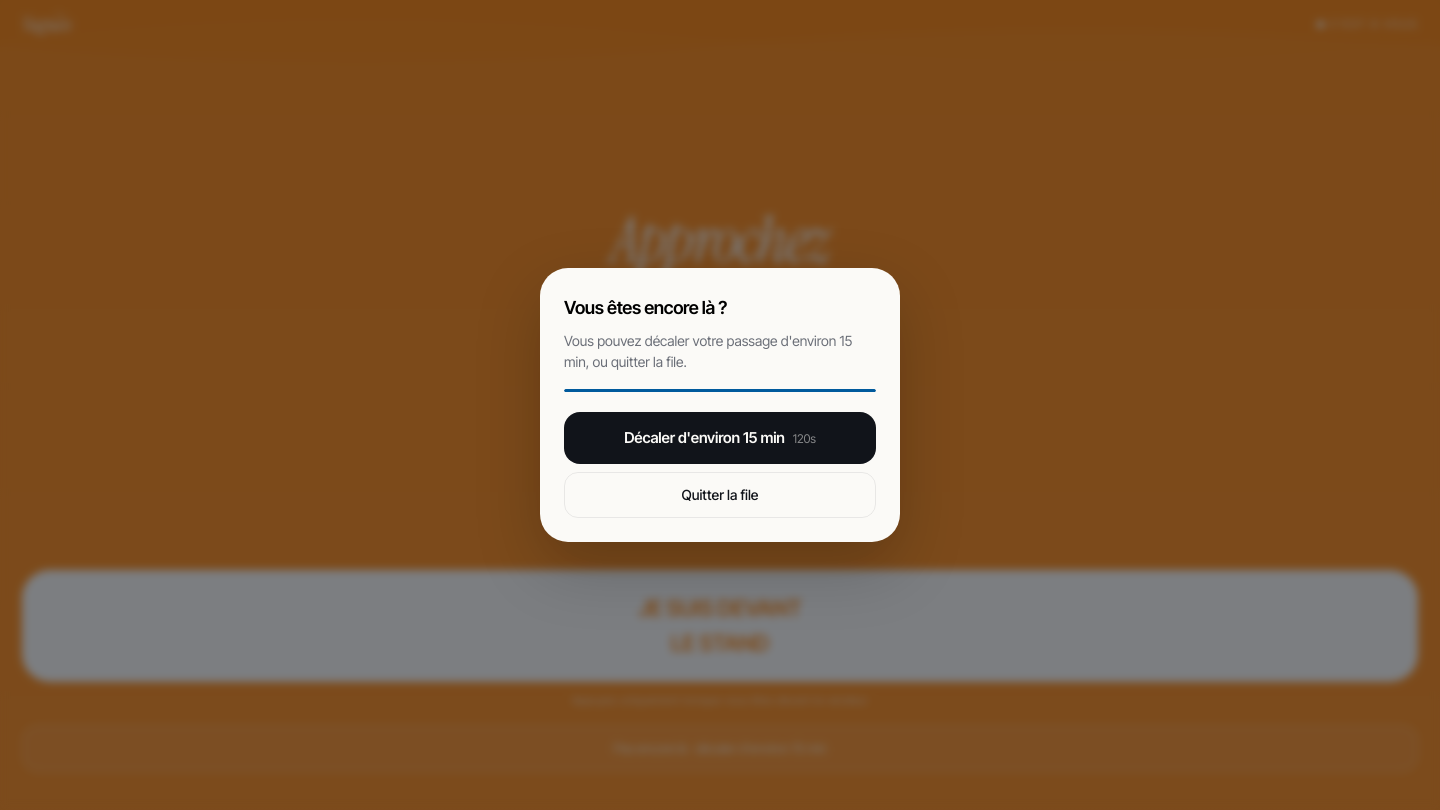
Test: ClientApp — flux utilisateur › checkin → timeout → modal orange → décaler → modal se ferme
Expected: the text "Vous êtes encore là ?" is shown, [564,297,727,318]
Note: Target the modal button ("Décaler d'environ…"), not ScreenCheckin's ("Pas encore là — décaler…")
Click the button "Décaler d'environ 15 min120s" at (720,438), box [564,412,876,464]
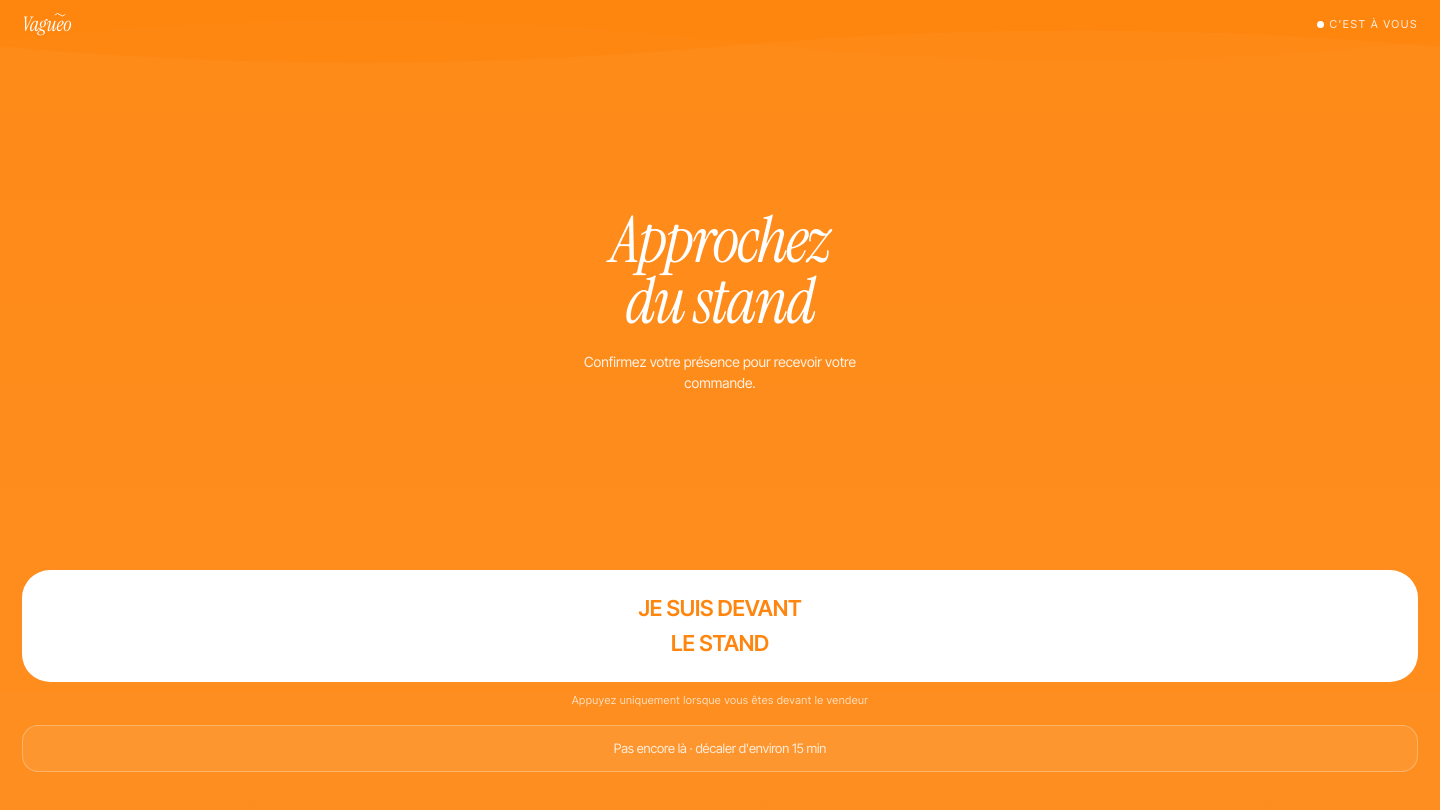
Result: the text "Vous êtes encore là" is gone
